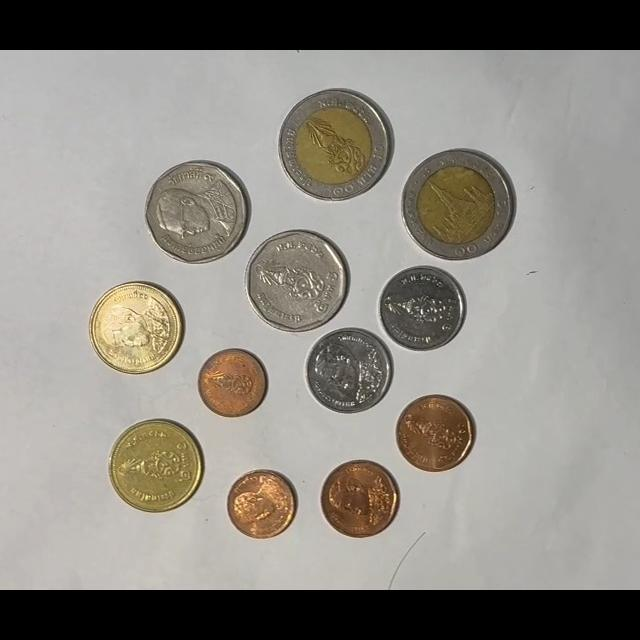1-baht: (378, 265, 466, 353), (304, 327, 392, 415)
10-baht: (278, 87, 394, 202), (400, 149, 513, 261)
2-baht: (109, 419, 205, 513), (89, 281, 183, 376)
25-satang: (226, 469, 298, 540), (197, 348, 268, 418)
5-baht: (245, 229, 348, 334), (145, 161, 249, 264)
50-satang: (320, 460, 400, 539), (395, 394, 475, 472)
